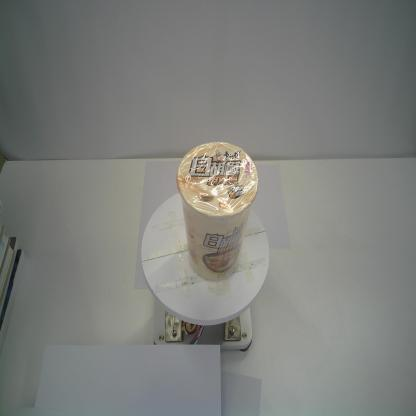Instant Noodles: (176, 140, 259, 281)
